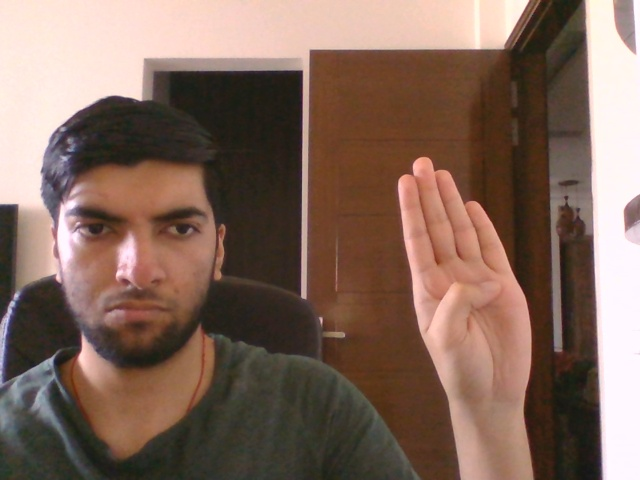LetterB: (396, 155, 533, 418)
